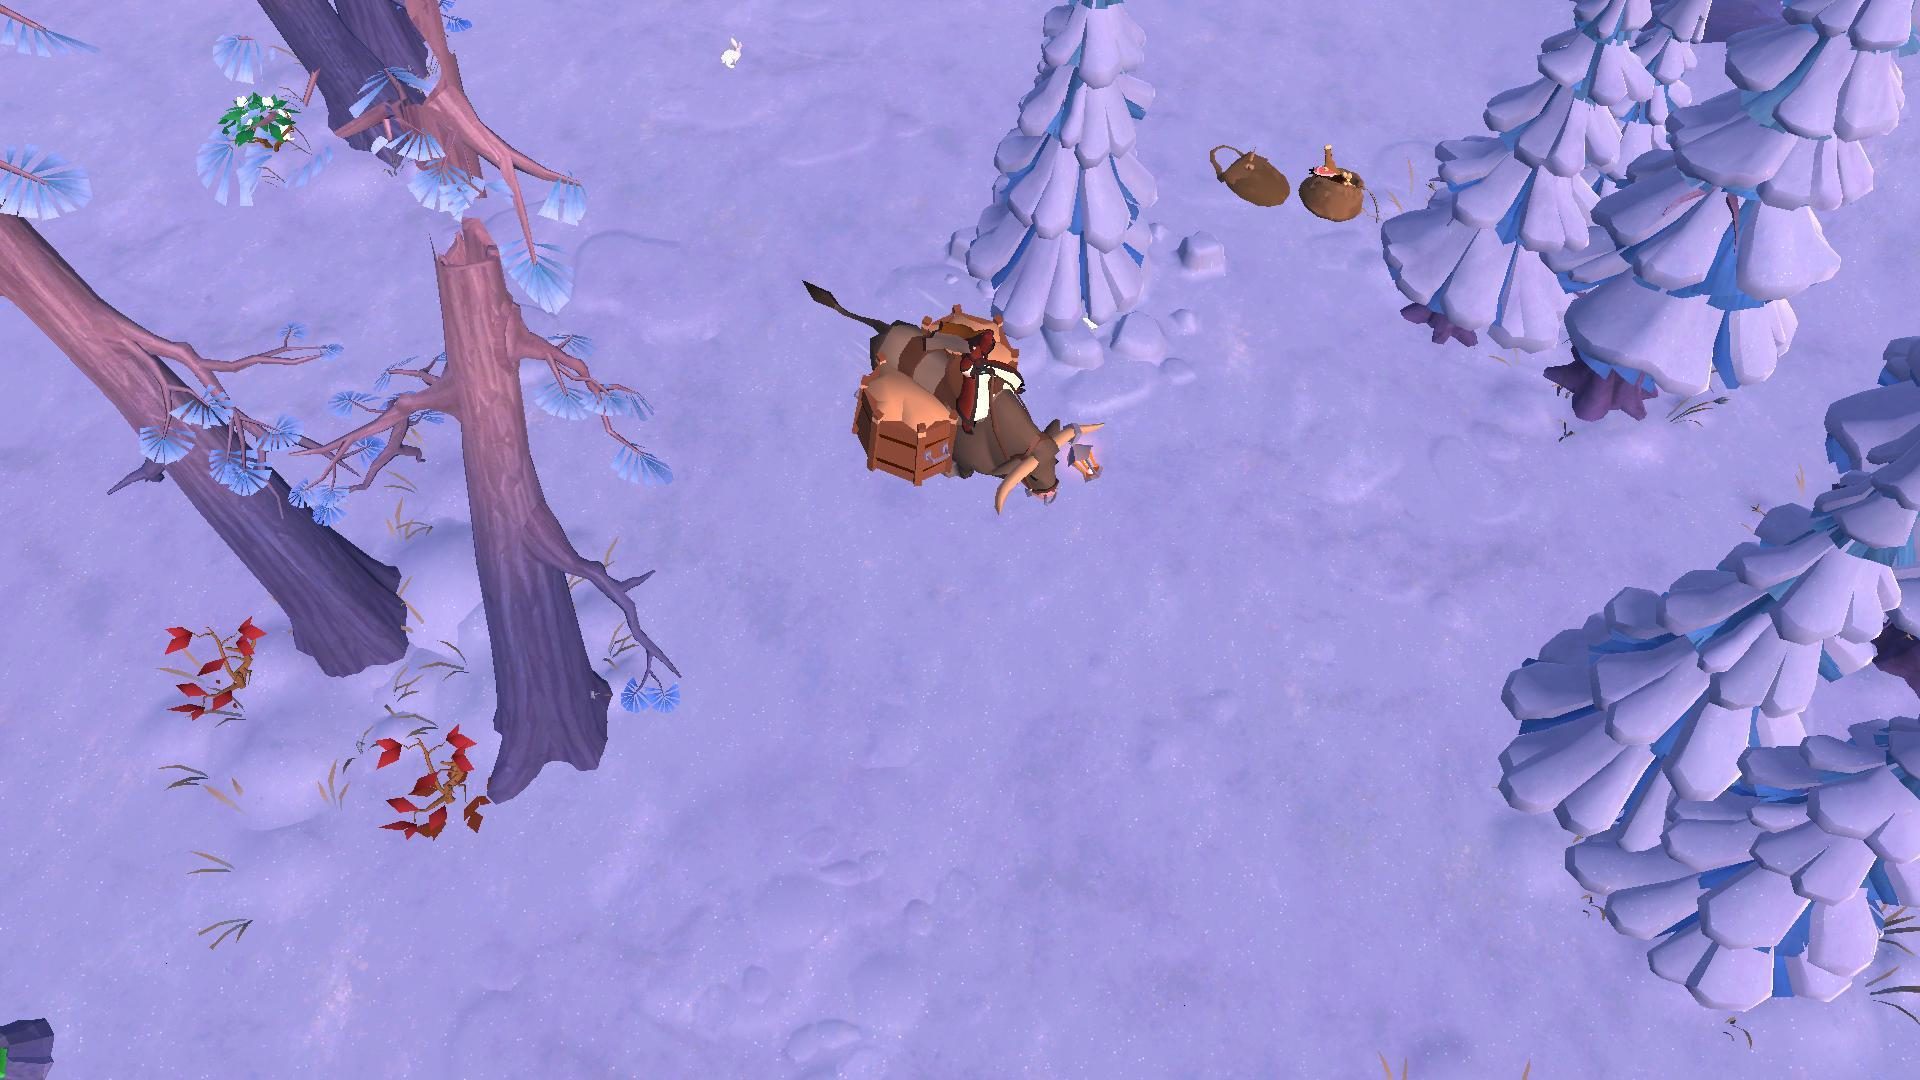fiber_t3: (206, 86, 297, 153)
